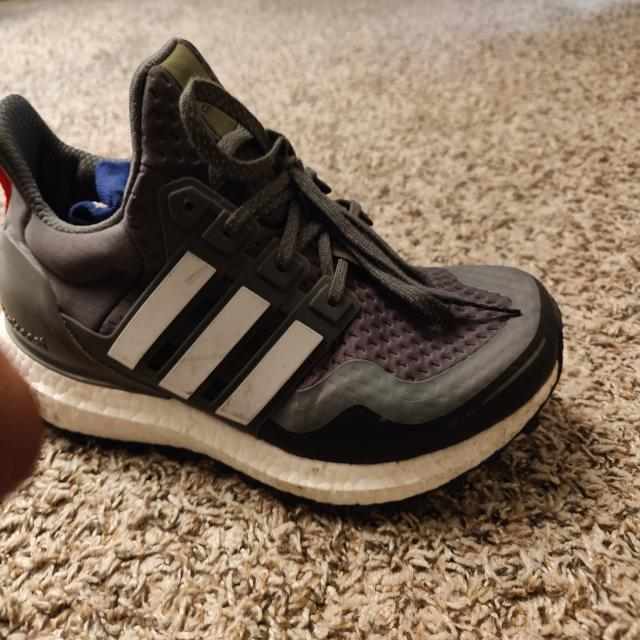black shoes: (0, 45, 511, 467)
